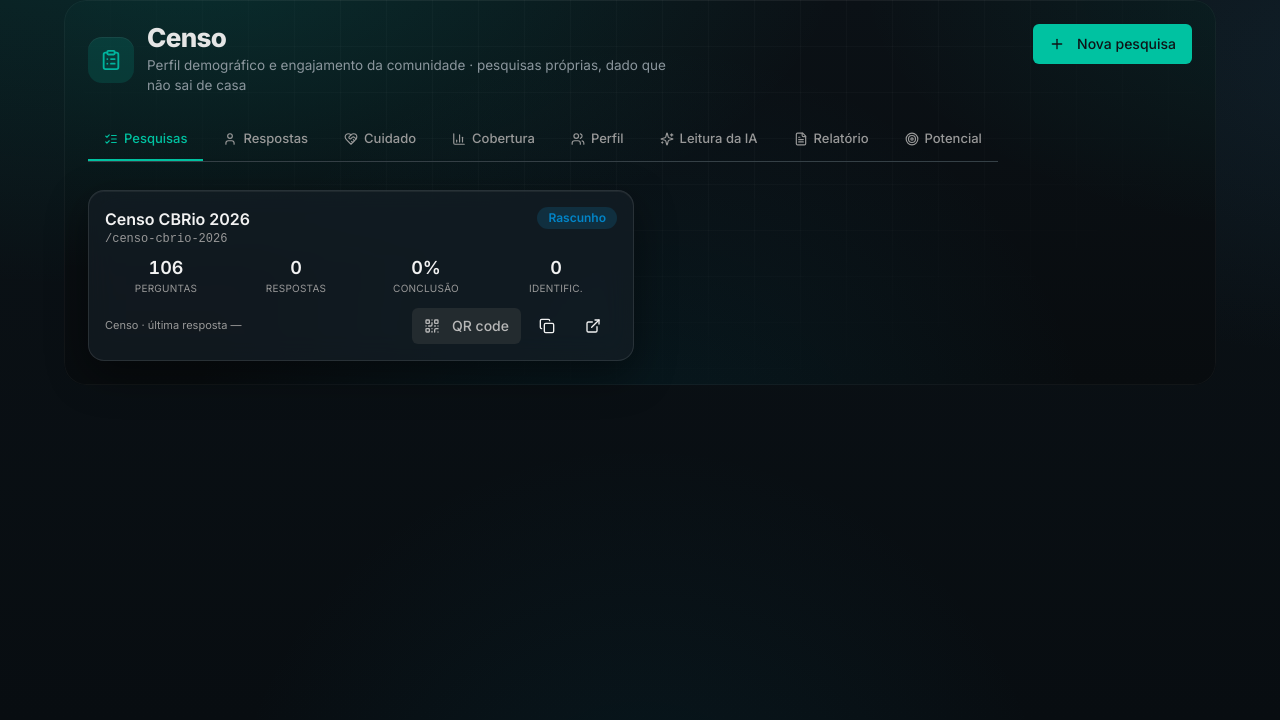
Test: página /censo › Cobertura avisa quando a amostra ainda não representa a igreja
Check: the heading "Censo CBRio 2026" is shown, box [105, 209, 250, 229]
Step 1. Press the mouse on the tab "Cobertura" → (493, 140), box [436, 119, 551, 161]
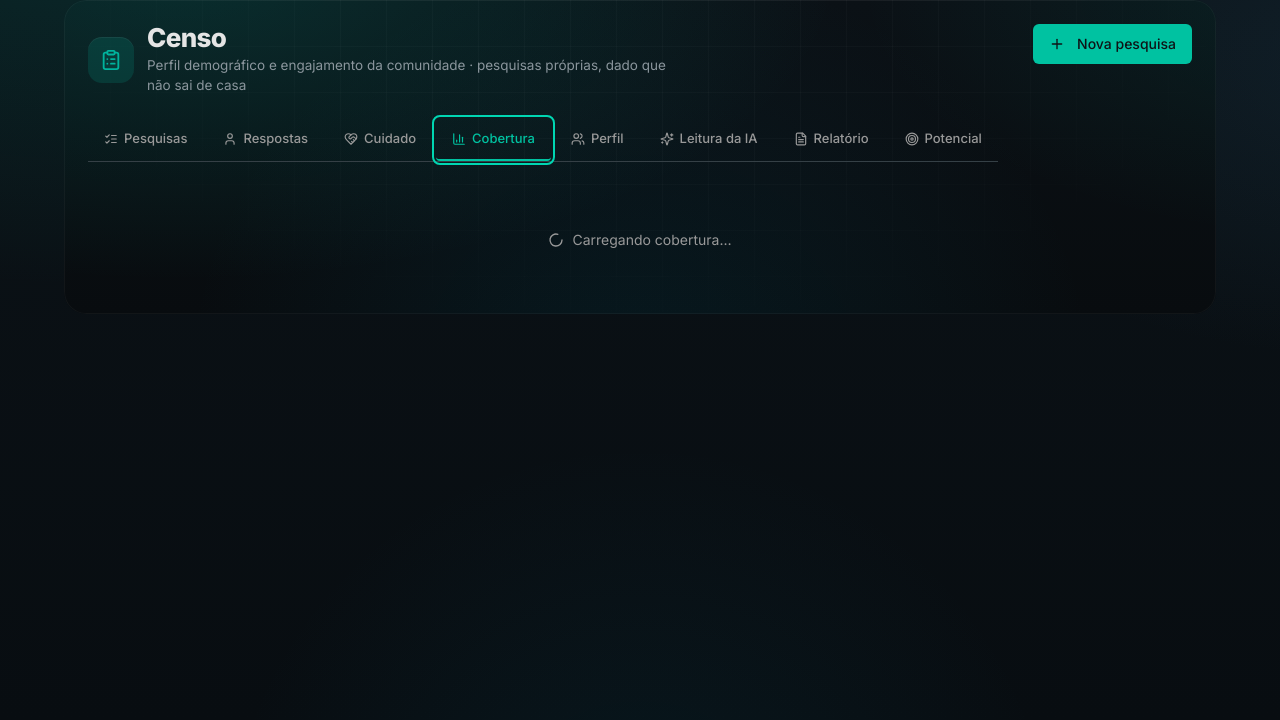
Step 2. Click the tab "Cobertura" → (493, 140), box [436, 119, 551, 161]
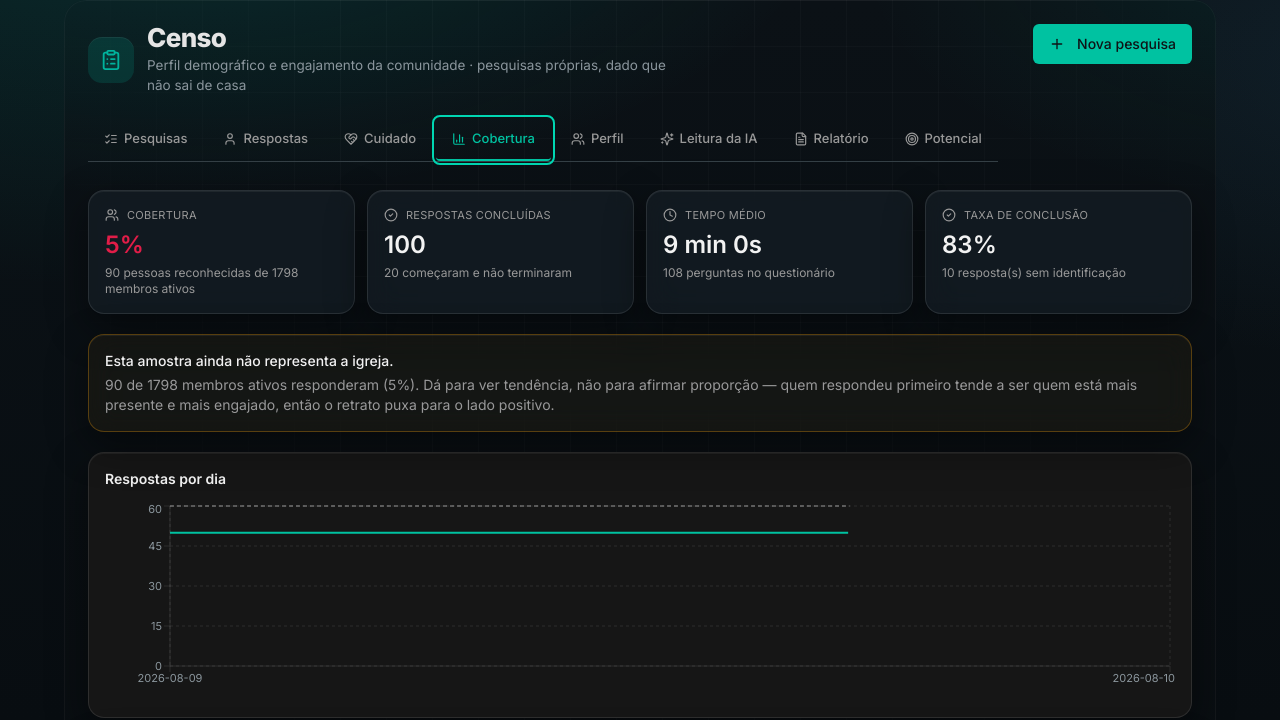
Check: the text "Esta amostra ainda não representa a igreja." is shown, box [105, 352, 394, 369]
